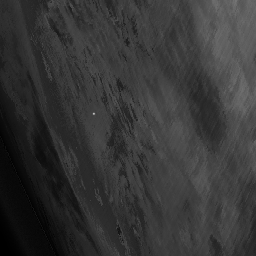Target: (91, 111, 96, 116)
